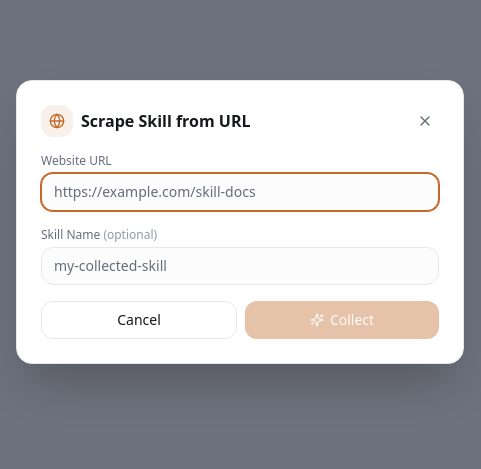
ScrapeUrlDialog — full interaction flow › disables the Collect button while loading
This screenshot has width=481, height=469.
Type "https://example.com/slow" into the field with placeholder "https://example.com/skill-docs" at (240, 192), box [41,173,439,211]
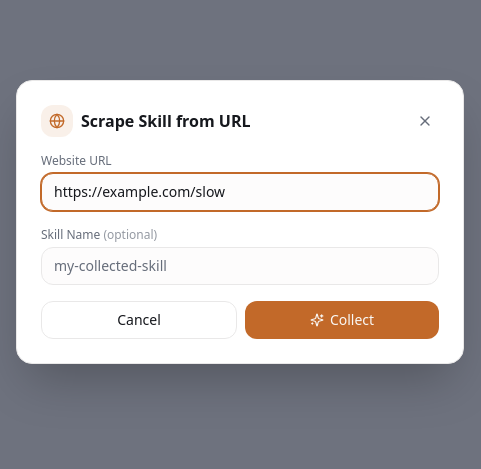
Click the button "Collect" at (342, 320), box [245,301,439,339]
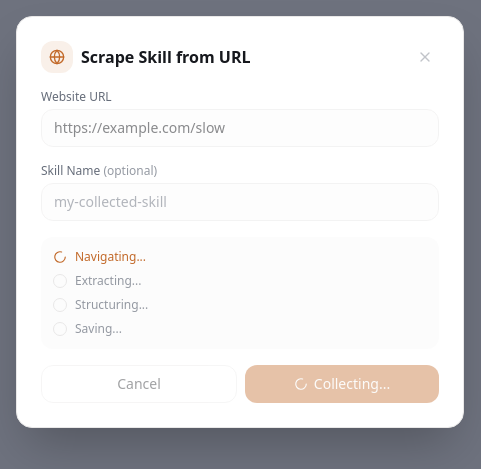
Check: the button "Collecting..." is shown, box [245,365,439,403]
